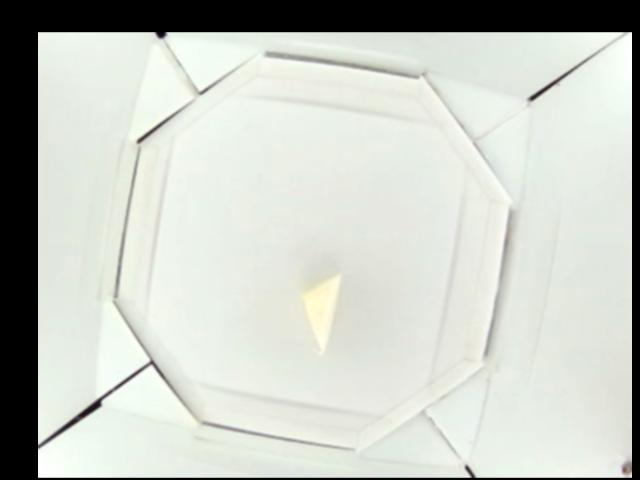Mooli: (300, 271, 343, 352)
